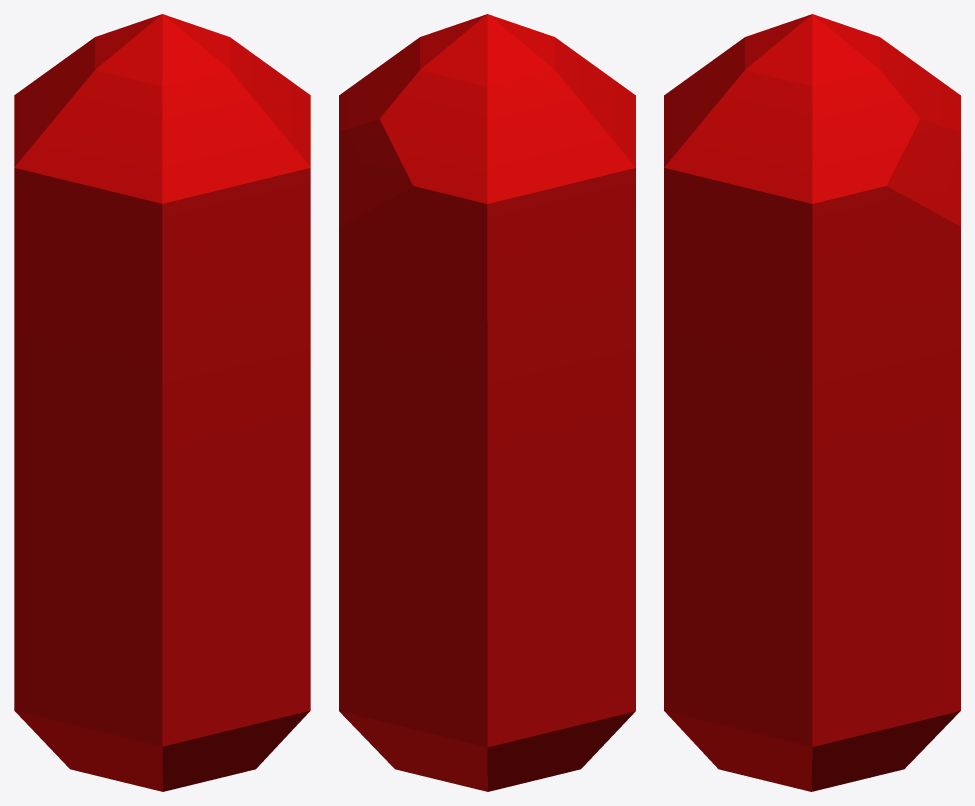
The model's file is geology-crystals-coloredcrystal_v13.fbx.
The picture shows the model from 3 angles, left to right: view 1: azimuth 30°, elevation 25°; view 2: azimuth 150°, elevation 25°; view 3: azimuth 270°, elevation 25°; orthographic projection.
Parts seen in each view (by area): view 1: ColoredCrystal_v13; view 2: ColoredCrystal_v13; view 3: ColoredCrystal_v13.
Boxes of the visible parts, x1=… form: ColoredCrystal_v13: x1=14, y1=14, x2=310, y2=791; ColoredCrystal_v13: x1=339, y1=14, x2=635, y2=791; ColoredCrystal_v13: x1=664, y1=14, x2=960, y2=791.
Size of the model in its own units: 3 by 7.29 by 2.59.
